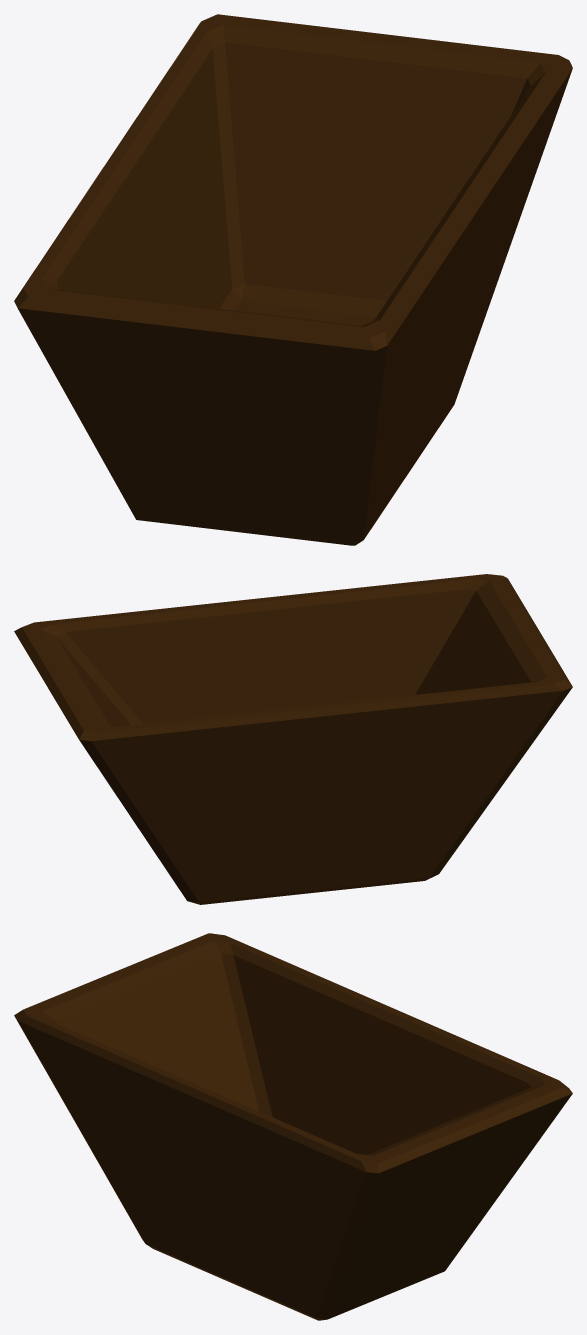
Rendered from bac_potion 1.fbx.
The picture shows the model from 3 angles, top to bottom: view 1: azimuth 30°, elevation 25°; view 2: azimuth 150°, elevation 25°; view 3: azimuth 270°, elevation 25°; orthographic projection. The views are drawn at different scales.
Parts seen in each view (by area): view 1: Bac potions; view 2: Bac potions; view 3: Bac potions.
Boxes of the visible parts, bbox=[...] form: Bac potions: bbox=[14, 14, 572, 545]; Bac potions: bbox=[14, 574, 572, 904]; Bac potions: bbox=[14, 933, 572, 1320].
Bounding box in the file's own units: 95.55 × 39.78 × 94.73.
